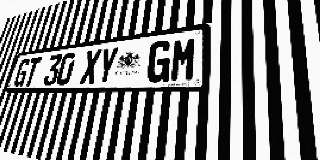0: (55, 52, 77, 85)
3: (42, 54, 63, 86)
G: (145, 39, 173, 83), (13, 58, 31, 87)
M: (169, 36, 198, 82)
T: (23, 57, 42, 86)
X: (79, 49, 102, 85)
Y: (95, 46, 119, 84)
